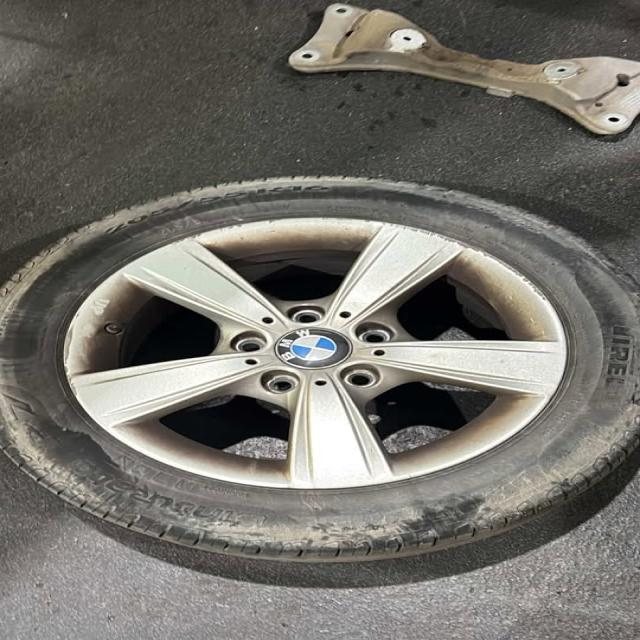jante: (57, 217, 577, 490)
roda: (0, 175, 640, 567)
